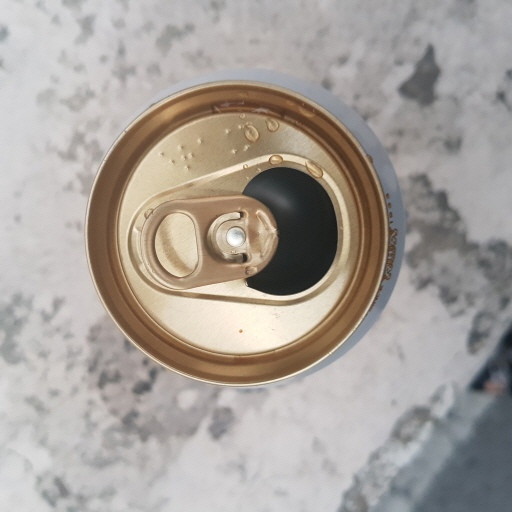Metal_0: (77, 66, 407, 392)
